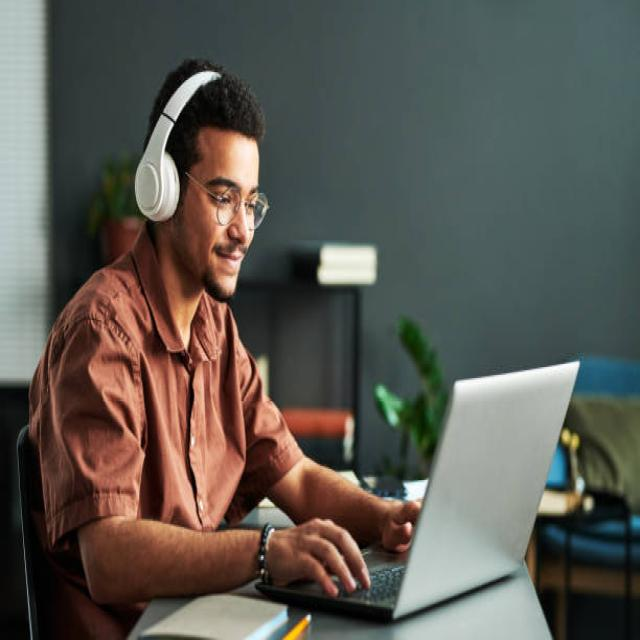Headphone: (133, 70, 222, 224)
